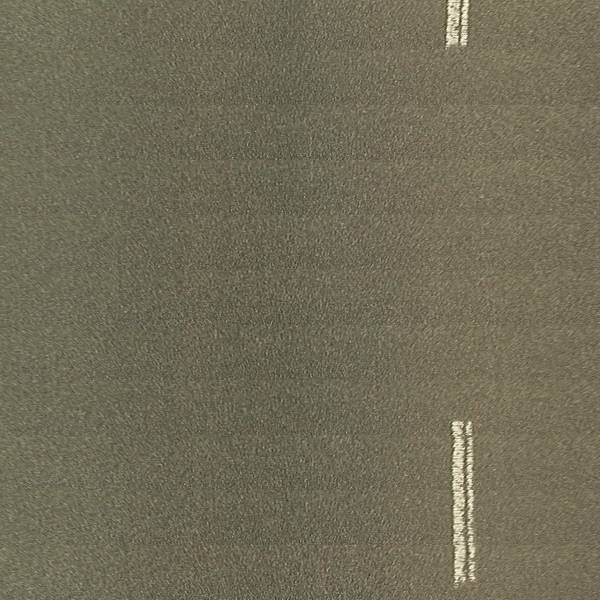road_damage: (459, 421, 475, 583)
